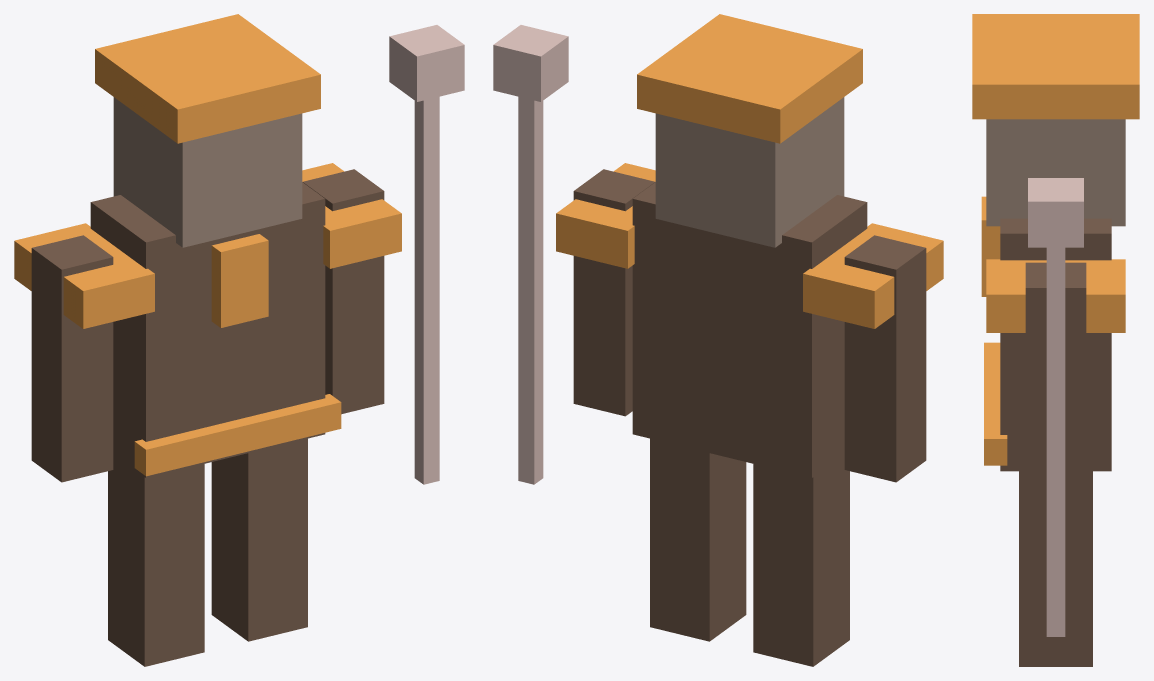
File: 12_auren_holloway_tamer_at_echo.glb
3 renders of one model, left to right at view 1: azimuth 30°, elevation 25°; view 2: azimuth 150°, elevation 25°; view 3: azimuth 270°, elevation 25°, orthographic.
Visible parts, largest first — view 1: Auren Holloway, Tamer at Echo; view 2: Auren Holloway, Tamer at Echo; view 3: Auren Holloway, Tamer at Echo.
Part boxes in pixels (x1,y1,x2,y2): Auren Holloway, Tamer at Echo: [14, 14, 464, 666]; Auren Holloway, Tamer at Echo: [493, 14, 943, 666]; Auren Holloway, Tamer at Echo: [972, 14, 1139, 666].
Size of the model in its own units: 1.04 by 1.4 by 0.3677.
